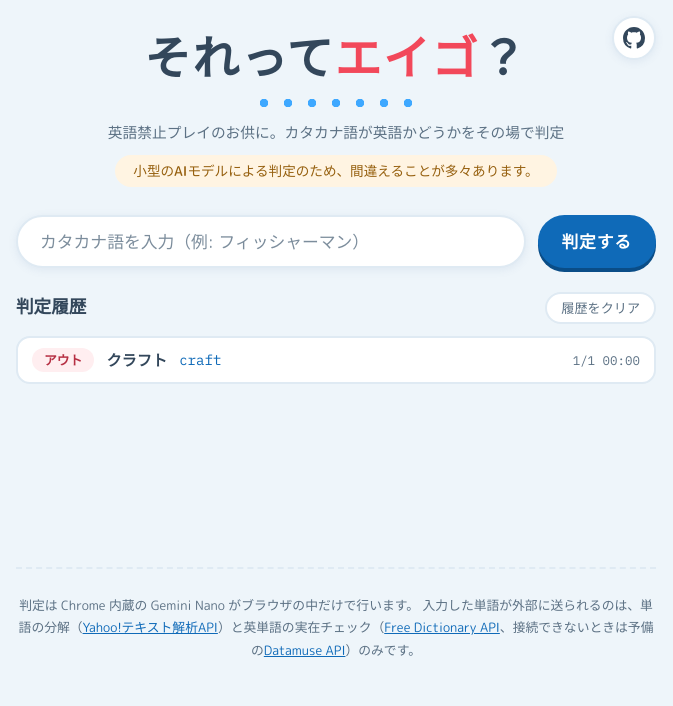
it: App › 履歴のエントリをクリックすると結果を再表示し、結果の位置までスクロールで戻る
Step 1. Click the text "クラフト" → (137,360), box [106,348,167,372]
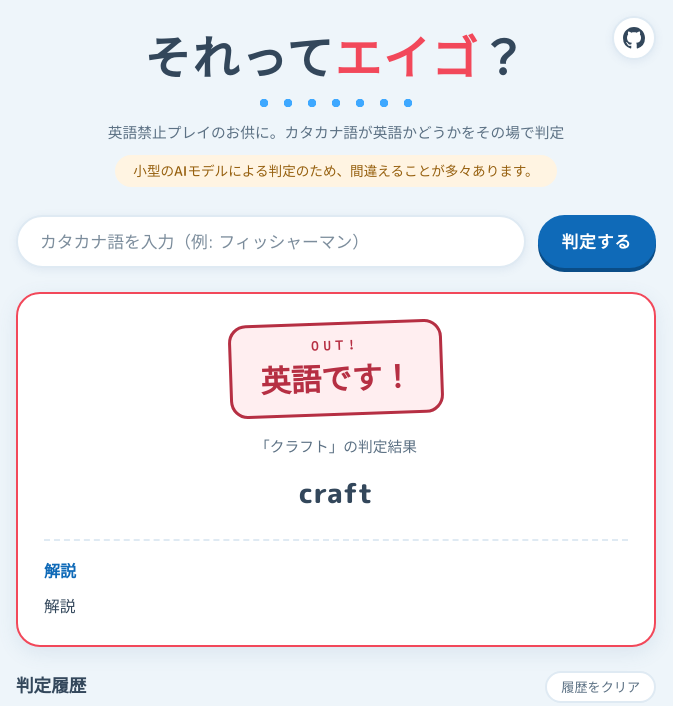
Now the heading "英語です！" is shown, box [260,357,413,402]
